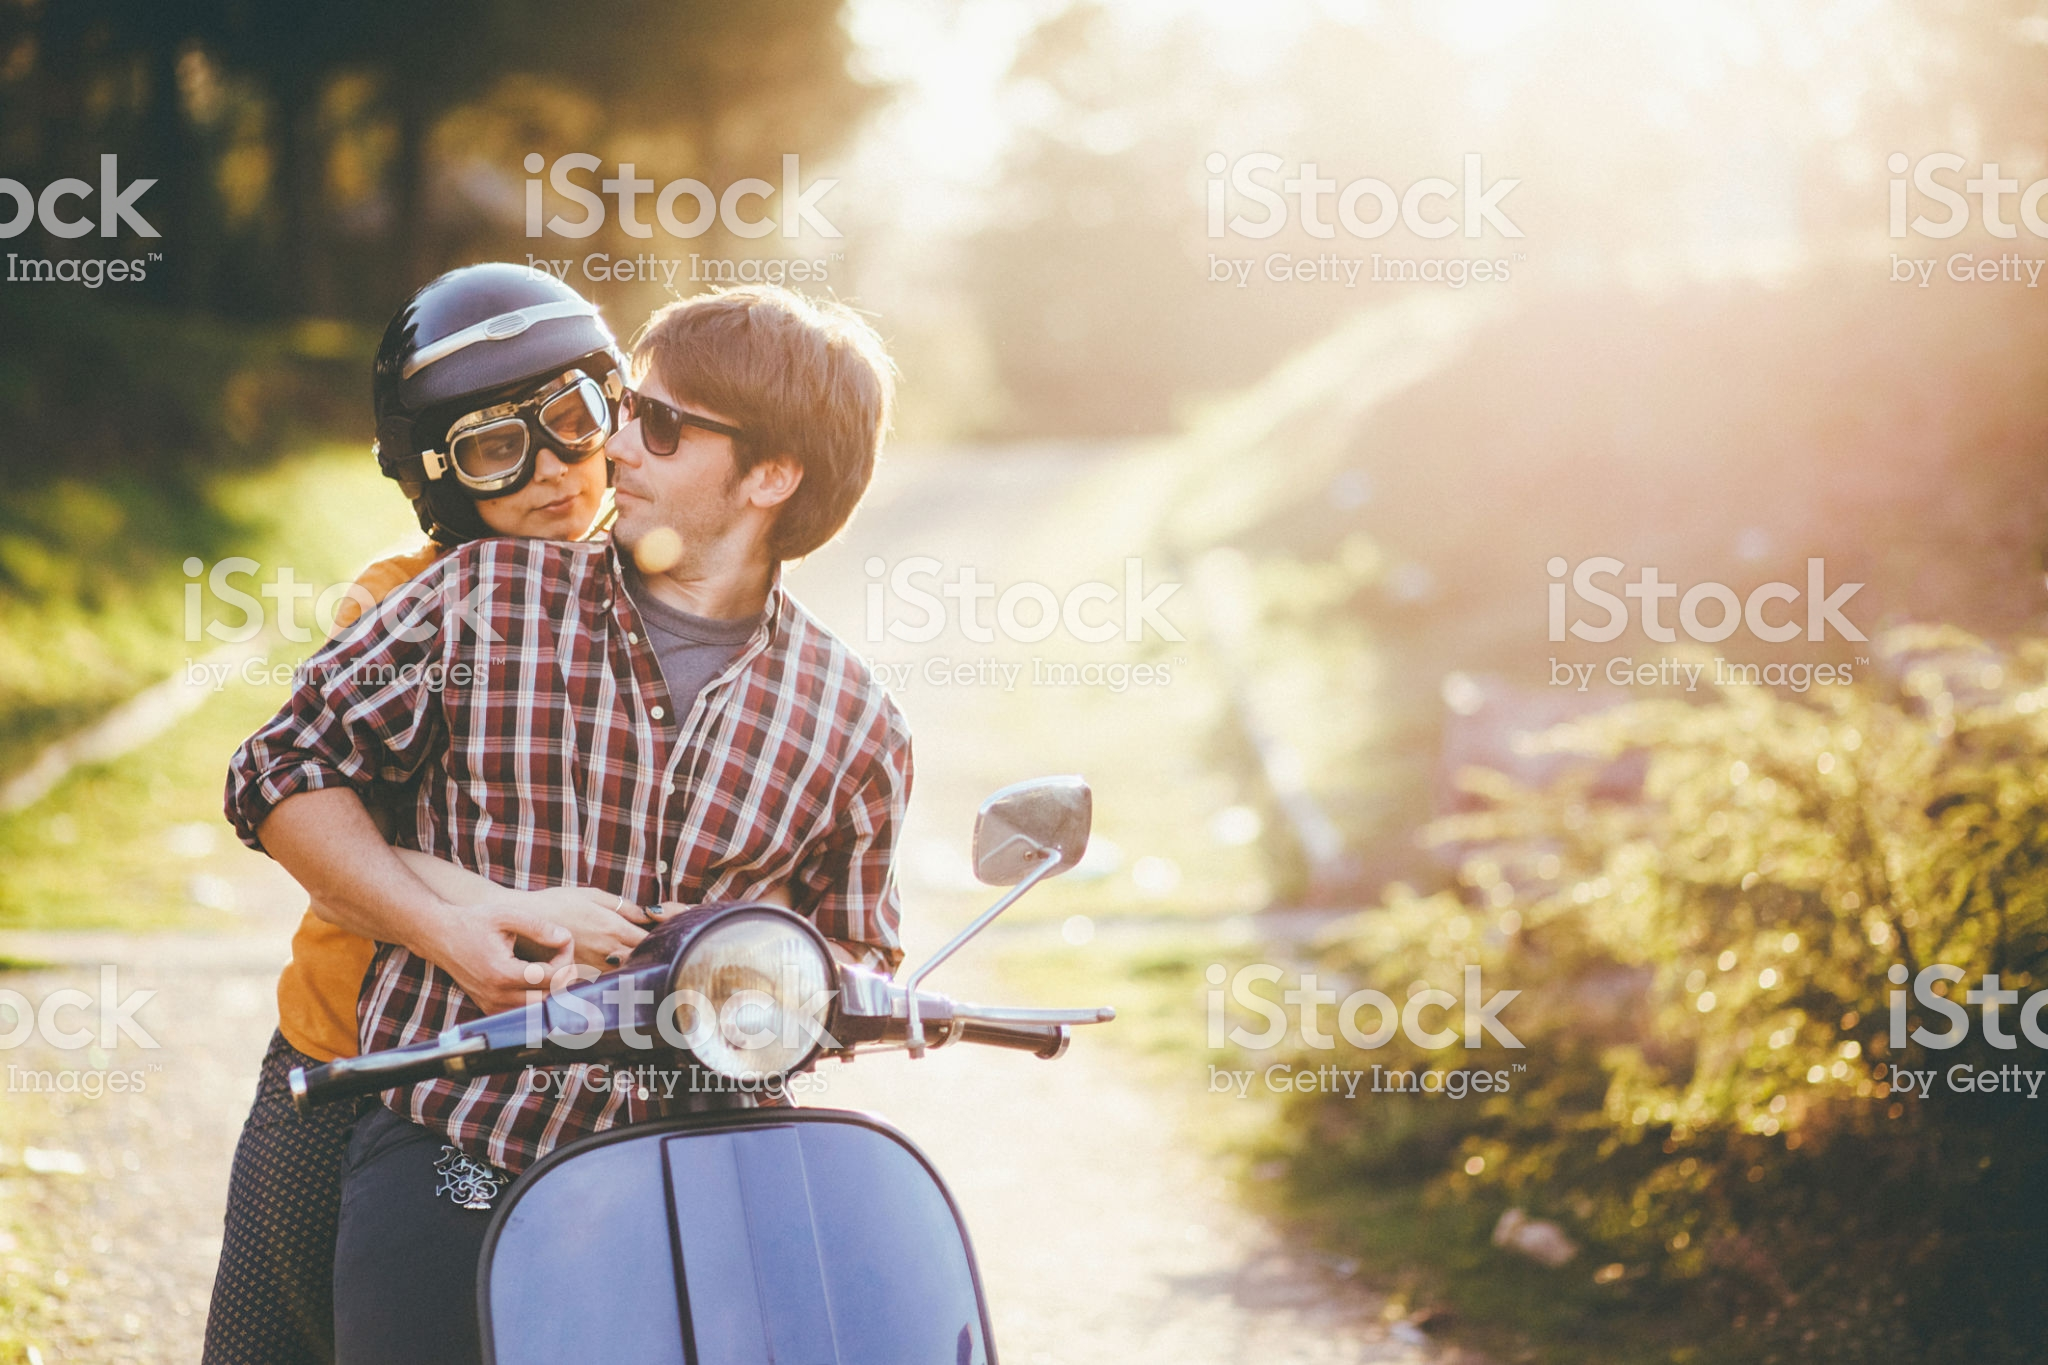helmet: (346, 277, 620, 392)
